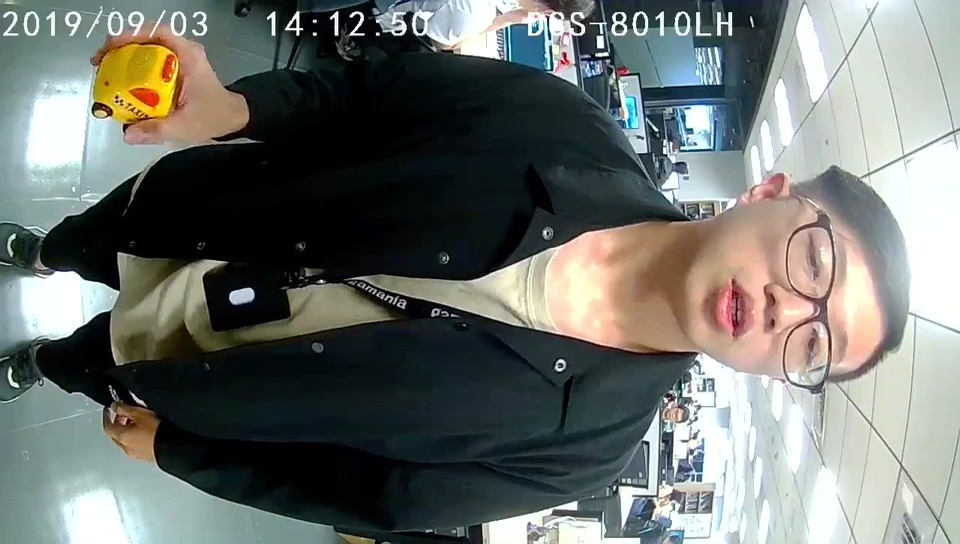car: (89, 44, 175, 122)
